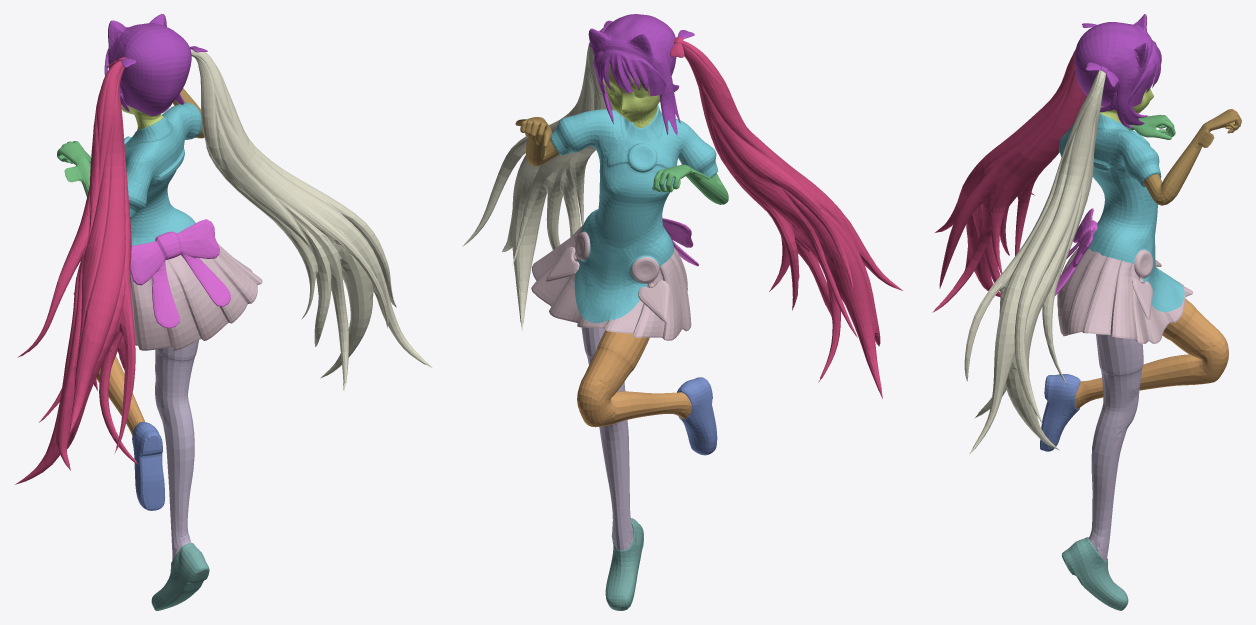
File: full_1.glb
3 renders of one model, left to right at view 1: azimuth 30°, elevation 25°; view 2: azimuth 150°, elevation 25°; view 3: azimuth 270°, elevation 25°, orthographic. The views are drawn at different scales.
Visible parts, largest first — view 1: world; view 2: world; view 3: world.
Part boxes in pixels (x1,y1,x2,y2): world: [15, 14, 432, 610]; world: [462, 14, 902, 610]; world: [932, 14, 1241, 610].
Size of the model in its own units: 0.5383 by 0.7575 by 0.3693.
